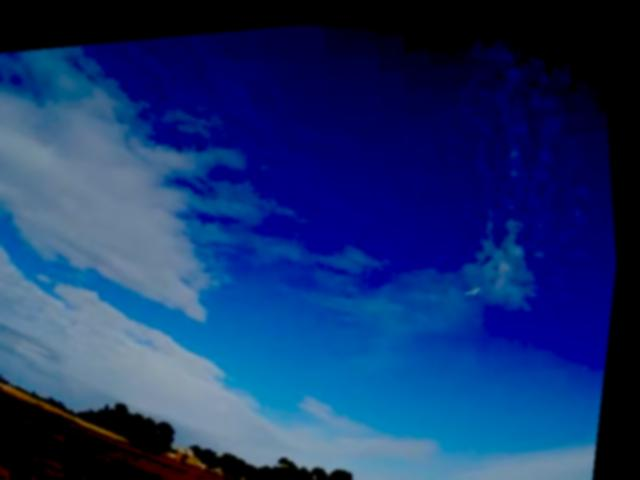uav: (460, 266, 491, 294)
